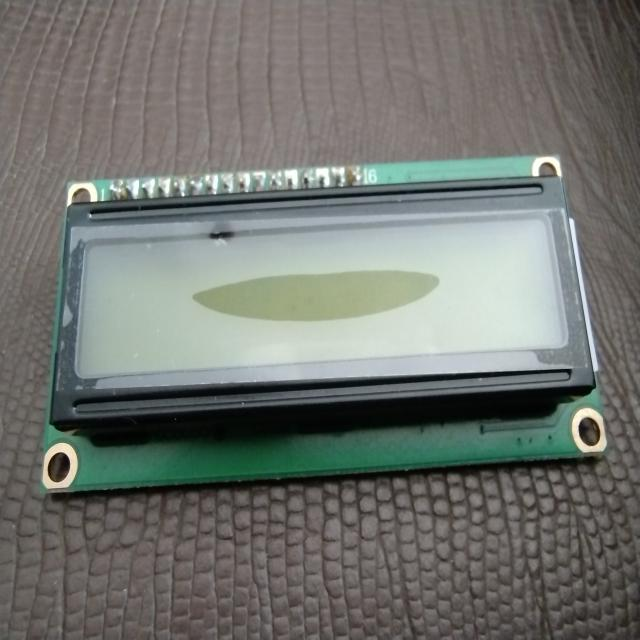lcd: (40, 154, 607, 494)
